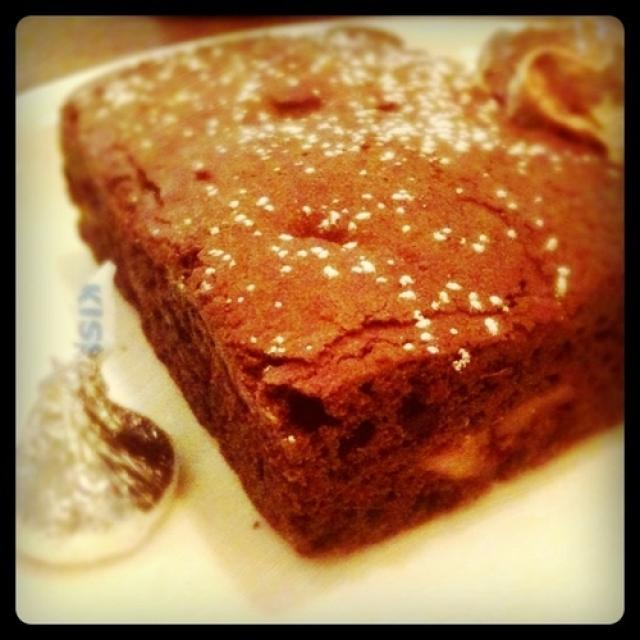蛋糕甜品: (55, 18, 620, 602)
